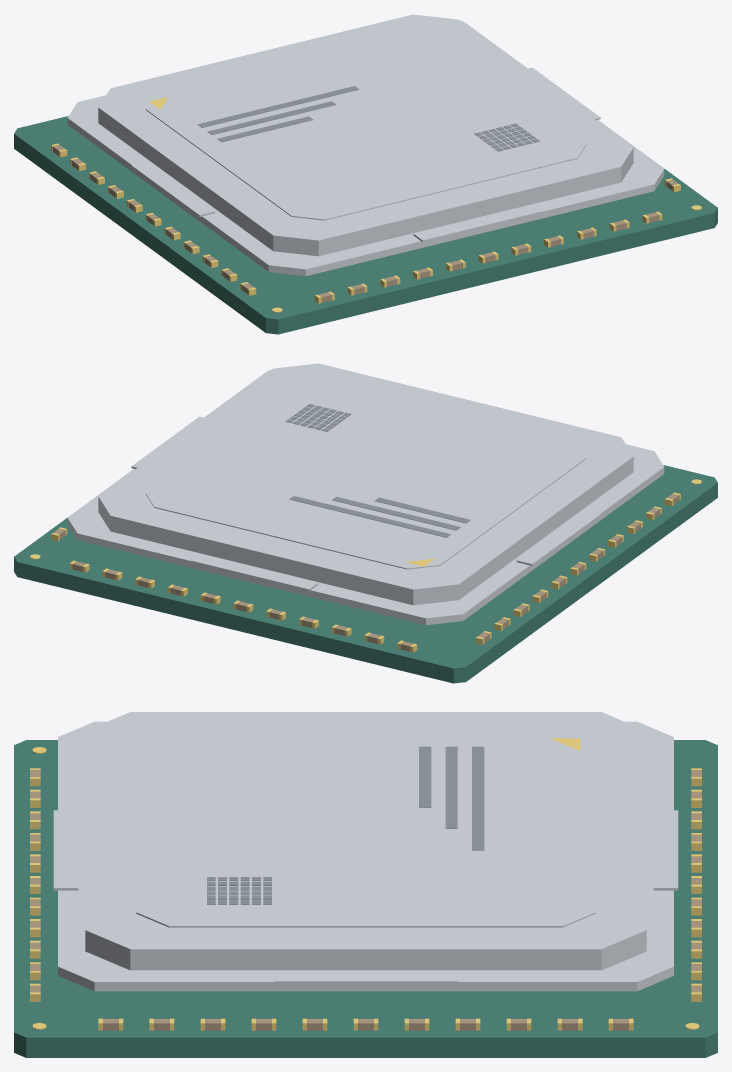
Rendered from cpu_package_v1.glb.
3 views of the same model, one above another, from view 1: azimuth 30°, elevation 25°; view 2: azimuth 150°, elevation 25°; view 3: azimuth 270°, elevation 25° (orthographic). The views are drawn at different scales.
Visible parts, largest first — view 1: tianedge__pkg-ihs__lid, tianedge__pkg-substrate__board, tianedge__pkg-ihs__marking, tianedge__pkg-substrate__terminals, tianedge__pkg-substrate__mlcc; view 2: tianedge__pkg-ihs__lid, tianedge__pkg-substrate__board, tianedge__pkg-ihs__marking, tianedge__pkg-substrate__terminals, tianedge__pkg-substrate__mlcc; view 3: tianedge__pkg-ihs__lid, tianedge__pkg-substrate__board, tianedge__pkg-substrate__terminals, tianedge__pkg-ihs__marking, tianedge__pkg-substrate__mlcc.
Part boxes in pixels (x1,y1,x2,y2): tianedge__pkg-ihs__lid: [67, 14, 664, 276]; tianedge__pkg-substrate__board: [14, 116, 717, 334]; tianedge__pkg-ihs__marking: [198, 86, 540, 151]; tianedge__pkg-substrate__terminals: [51, 143, 701, 312]; tianedge__pkg-substrate__mlcc: [53, 145, 678, 302]; tianedge__pkg-ihs__lid: [67, 363, 664, 625]; tianedge__pkg-substrate__board: [14, 465, 717, 683]; tianedge__pkg-ihs__marking: [285, 404, 470, 537]; tianedge__pkg-substrate__terminals: [30, 479, 701, 652]; tianedge__pkg-substrate__mlcc: [53, 494, 678, 651]; tianedge__pkg-ihs__lid: [53, 712, 678, 991]; tianedge__pkg-substrate__board: [14, 740, 717, 1057]; tianedge__pkg-substrate__terminals: [30, 747, 701, 1030]; tianedge__pkg-ihs__marking: [207, 746, 484, 904]; tianedge__pkg-substrate__mlcc: [30, 770, 701, 1030].
Bounding box in the file's own units: 3.45 × 0.4755 × 3.45.
